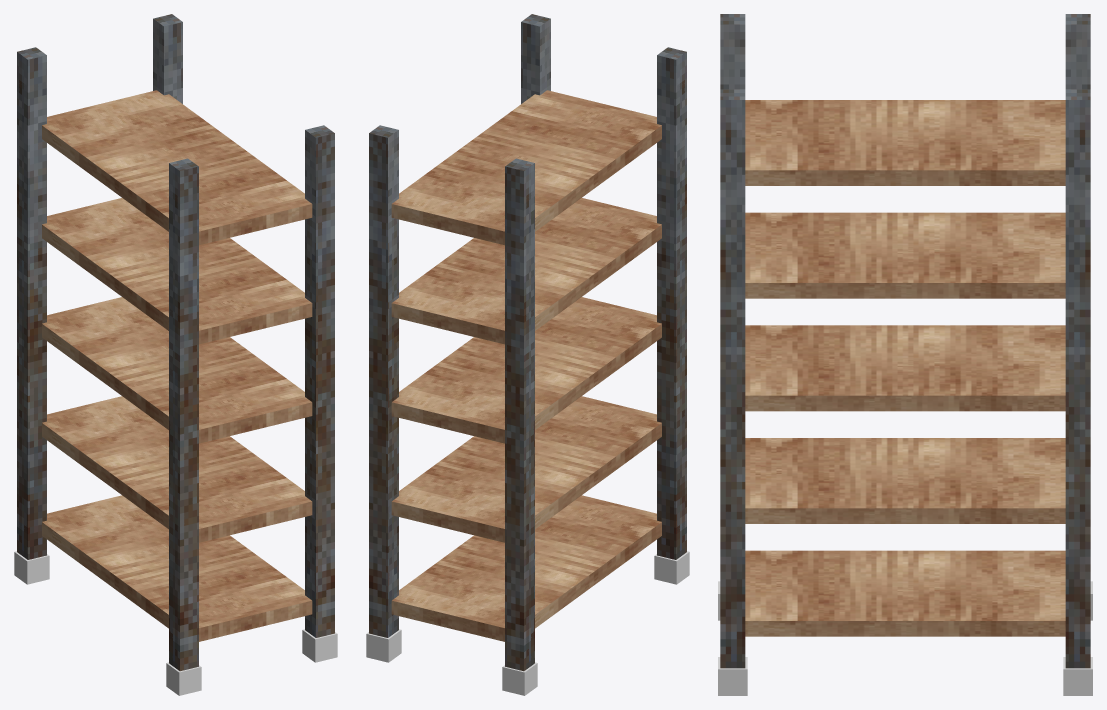
Rendered from stalla.fbx.
The picture shows the model from 3 angles, left to right: view 1: azimuth 30°, elevation 25°; view 2: azimuth 150°, elevation 25°; view 3: azimuth 270°, elevation 25°; orthographic projection. The views are drawn at different scales.
Parts seen in each view (by area): view 1: Cube.001, Cube.005, Cube.003, Cube.002, Cube.006, Cube.004, Cube; view 2: Cube.001, Cube.005, Cube.003, Cube.002, Cube.006, Cube.004, Cube; view 3: Cube.001, Cube.002, Cube.003, Cube.006, Cube.004, Cube.005, Cube.
Part boxes in pixels (x1,y1,x2,y2): Cube.001: [17, 14, 334, 671]; Cube.005: [42, 90, 312, 245]; Cube.003: [42, 495, 312, 641]; Cube.002: [42, 297, 312, 443]; Cube.006: [42, 198, 312, 344]; Cube.004: [42, 396, 312, 542]; Cube: [14, 551, 337, 695]; Cube.001: [369, 14, 686, 671]; Cube.005: [391, 90, 661, 245]; Cube.003: [391, 495, 661, 641]; Cube.002: [391, 297, 661, 443]; Cube.006: [391, 198, 661, 344]; Cube.004: [391, 396, 661, 542]; Cube: [366, 551, 689, 695]; Cube.001: [720, 14, 1090, 668]; Cube.002: [745, 325, 1065, 411]; Cube.003: [745, 550, 1065, 636]; Cube.006: [745, 212, 1065, 298]; Cube.004: [745, 438, 1065, 523]; Cube.005: [745, 100, 1065, 185]; Cube: [718, 581, 1092, 695].
Bounding box in the file's own units: 335 × 1056 × 603.
